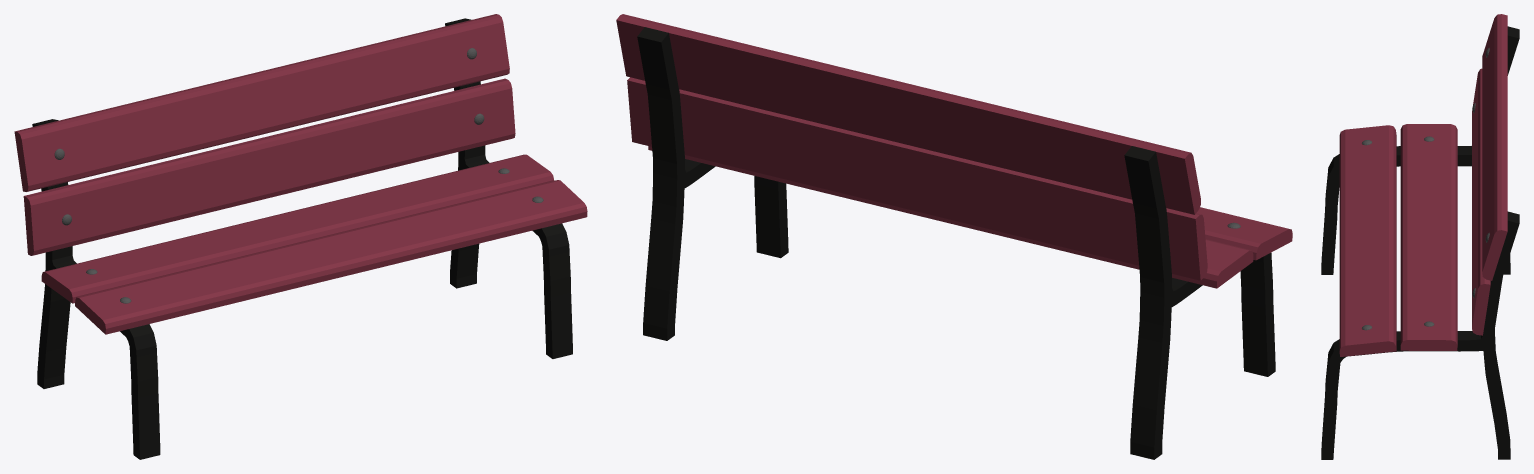
File: bench.glb
3 renders of one model, left to right at view 1: azimuth 30°, elevation 25°; view 2: azimuth 150°, elevation 25°; view 3: azimuth 270°, elevation 25°, orthographic. The views are drawn at different scales.
Parts seen in each view (by area): view 1: bench; view 2: bench; view 3: bench.
Part boxes in pixels (<box>): bench: <box>14,14,587,459</box>; bench: <box>616,14,1292,459</box>; bench: <box>1321,14,1519,459</box>.
Size of the model in its own units: 5.37 by 2.79 by 2.08.
